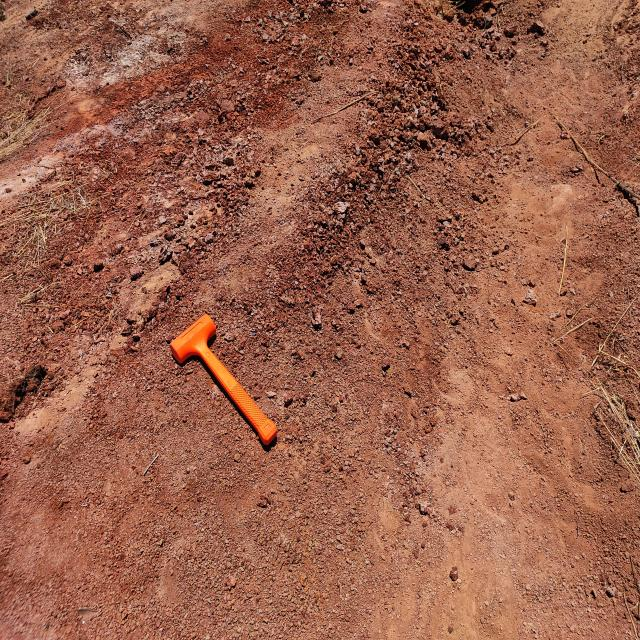Orange_hammer: (169, 312, 278, 448)
